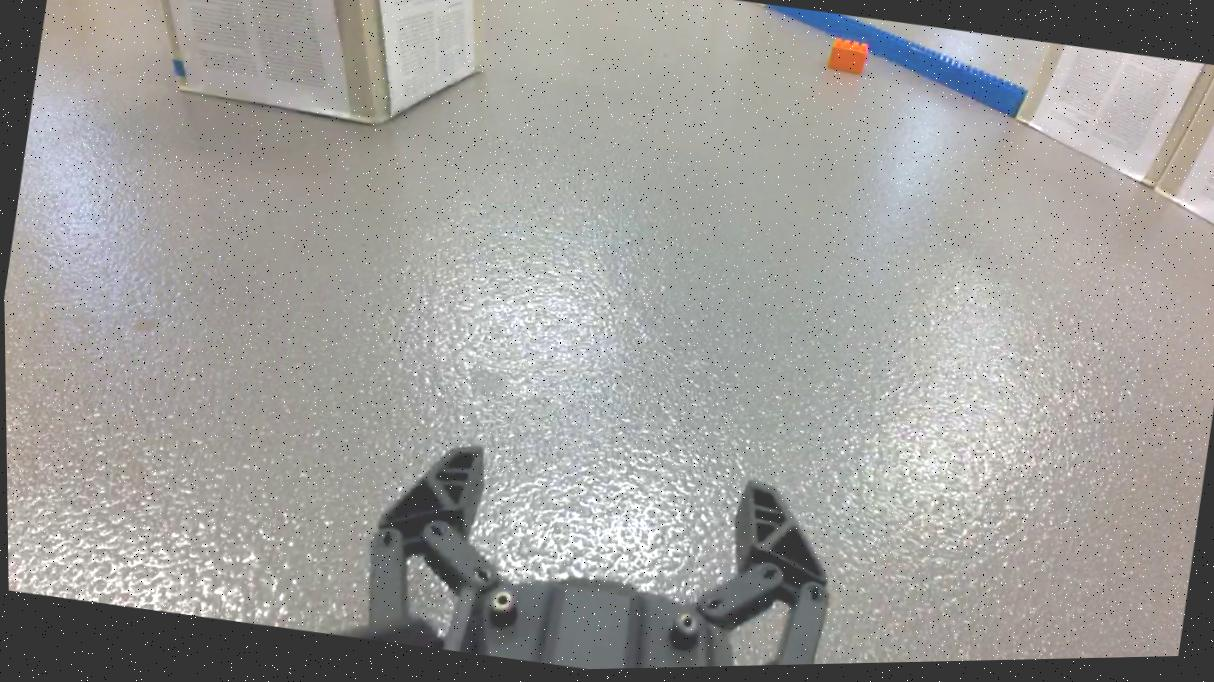4x4lego: (826, 39, 869, 80)
